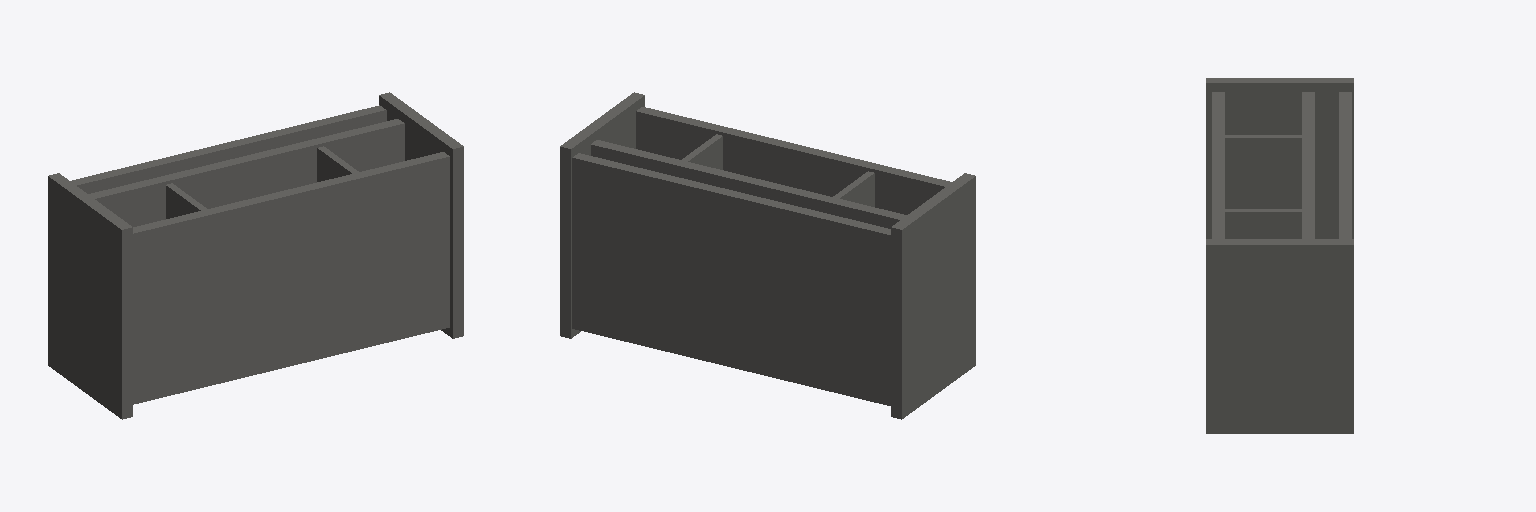
Rendered from tvstand.obj.
3 renders of one model, left to right at view 1: azimuth 30°, elevation 25°; view 2: azimuth 150°, elevation 25°; view 3: azimuth 270°, elevation 25°, orthographic.
Visible parts, largest first — view 1: Shelf_Small2; view 2: Shelf_Small2; view 3: Shelf_Small2.
Boxes of the visible parts, box(x1,y1,x2,y2) form: Shelf_Small2: box(48, 92, 463, 419); Shelf_Small2: box(560, 92, 975, 419); Shelf_Small2: box(1206, 78, 1353, 433).
Bounding box in the file's own units: 1.04 × 0.5504 × 0.3898.